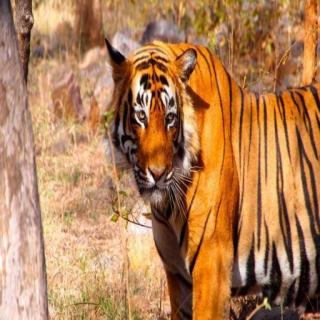Tiger: (80, 29, 320, 312)
